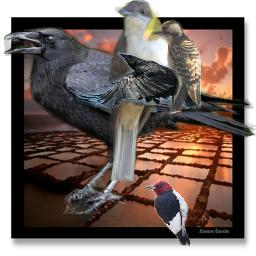Crow: (4, 27, 256, 214), (74, 52, 201, 114)
Cuckoo: (105, 0, 171, 181)
Woodpecker: (151, 20, 201, 114), (145, 180, 190, 246)
